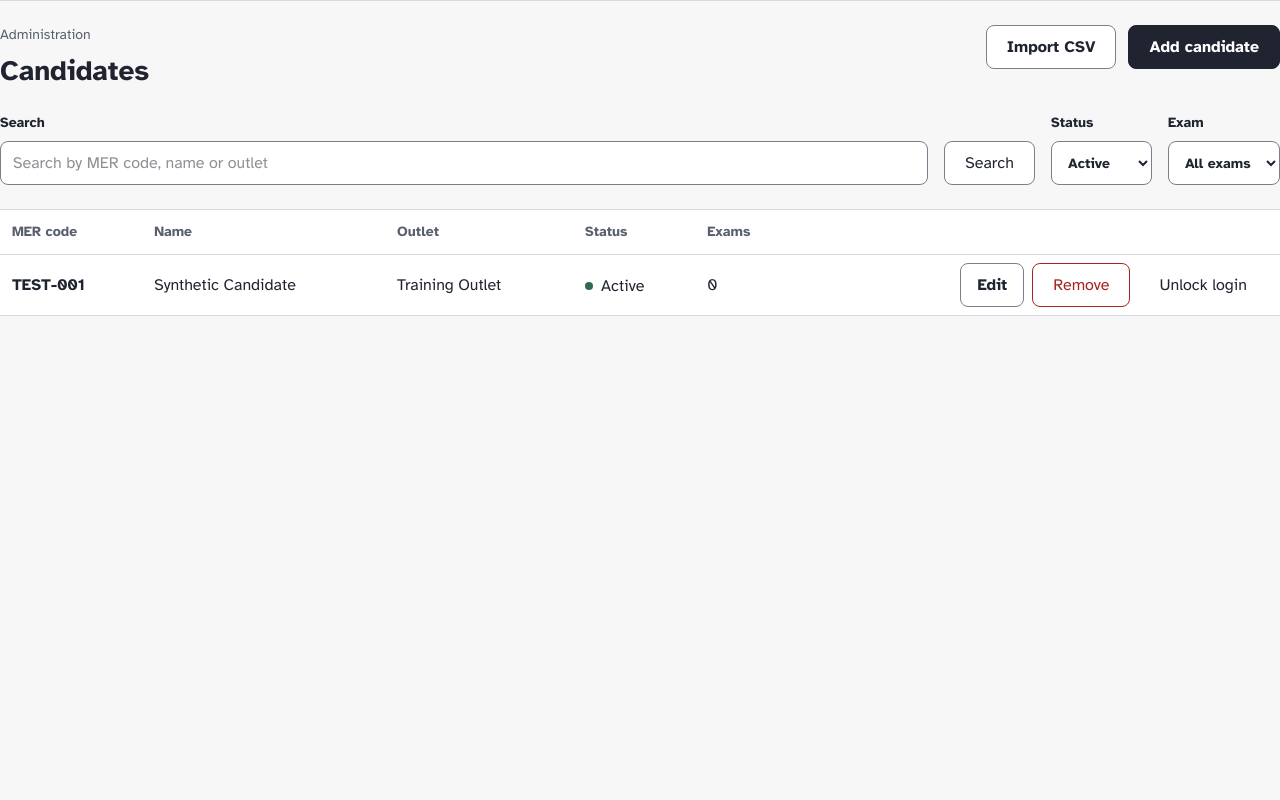
CandidateList › offers Mark inactive after has_attempts and keeps the row
Expected: the text "Synthetic Candidate" is shown, [142,254,385,315]
Step 1. Click the button "Remove" → (1081, 285), box [1032,263,1130,307]
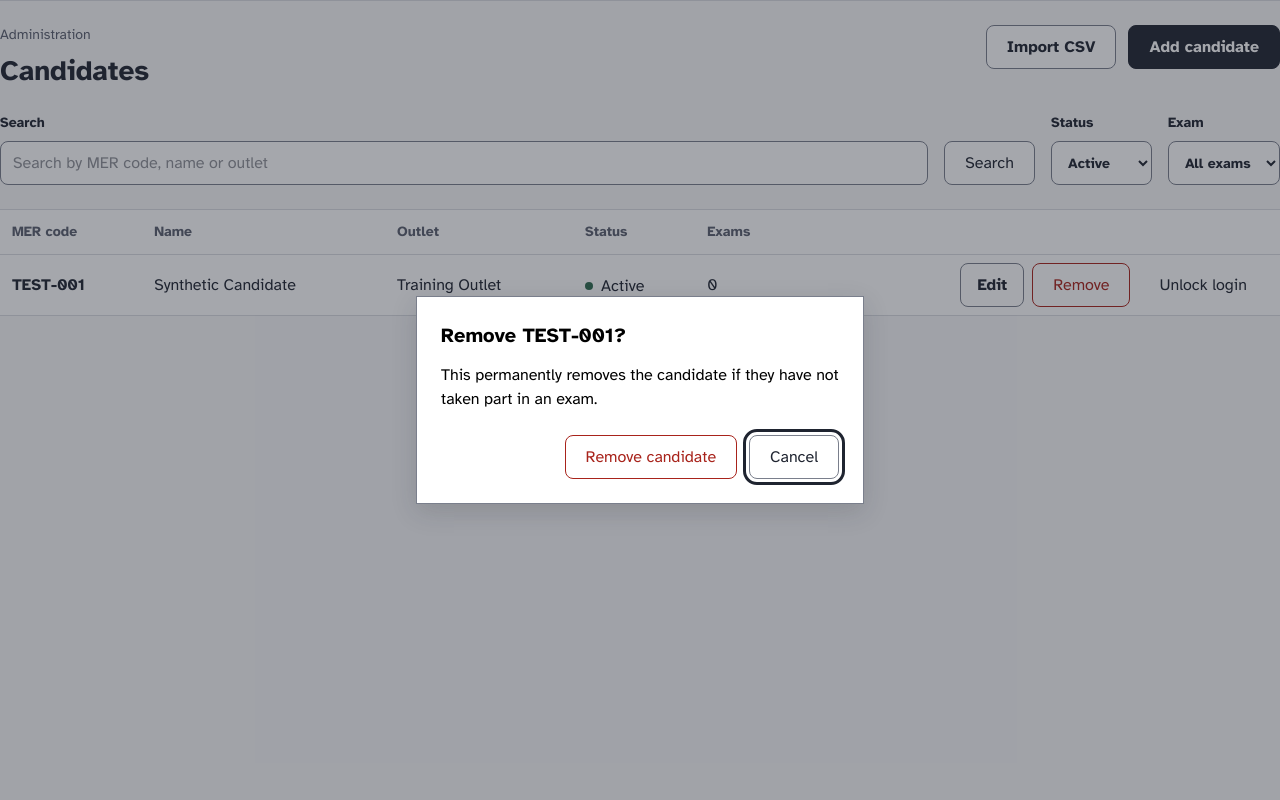
Step 2. Click the button "Remove candidate" → (651, 457), box [565,435,737,479]
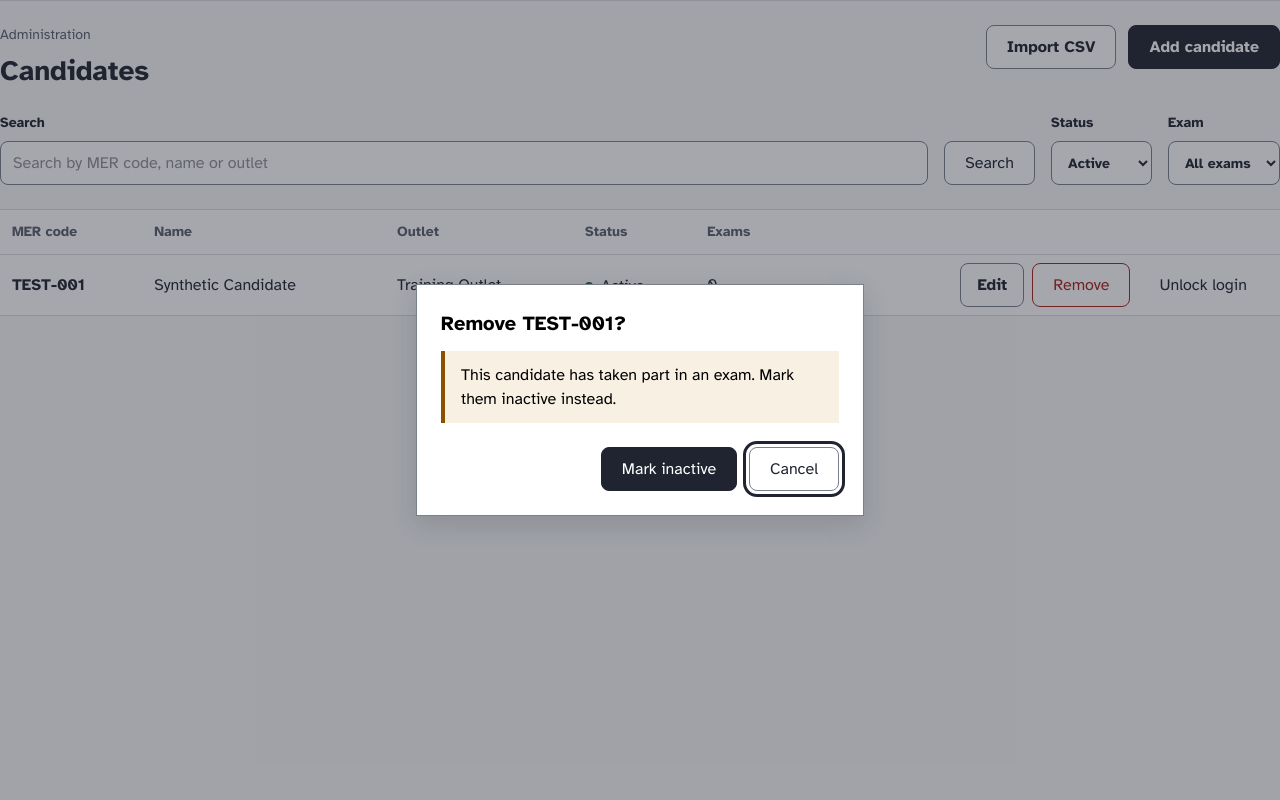
Expected: the text "Synthetic Candidate" is shown, [142,254,385,315]
Expected: the button "Mark inactive" is shown, [601,447,737,491]
